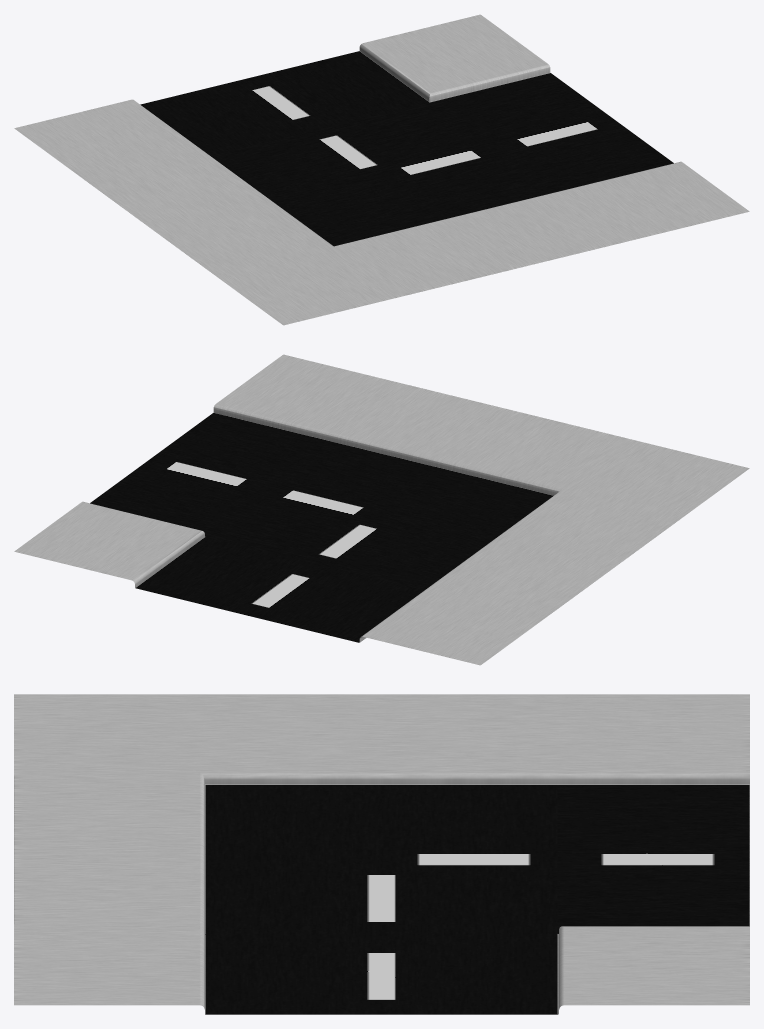
Rendered from Road_Corner.fbx.
The picture shows the model from 3 angles, top to bottom: view 1: azimuth 30°, elevation 25°; view 2: azimuth 150°, elevation 25°; view 3: azimuth 270°, elevation 25°; orthographic projection. The views are drawn at different scales.
Visible parts, largest first — view 1: RoadCorner; view 2: RoadCorner; view 3: RoadCorner.
Boxes of the visible parts, x1,y1,x2,y2 form: RoadCorner: [14, 14, 749, 325]; RoadCorner: [14, 354, 749, 665]; RoadCorner: [14, 694, 749, 1014].
Size of the model in its own units: 69.5 by 1 by 69.5.
Materials: 1 (1 with a texture image).
